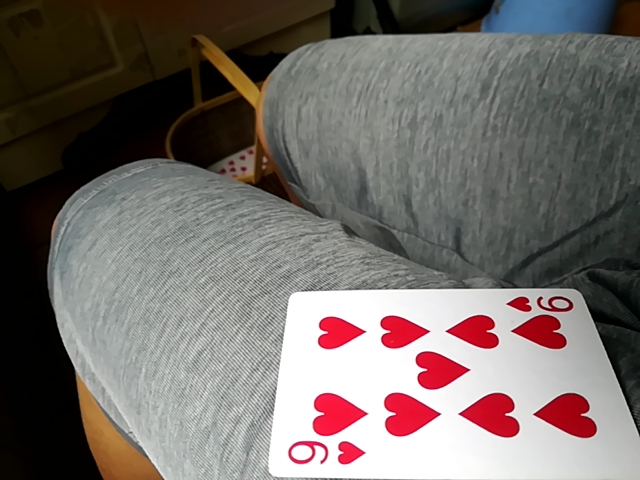hx 9: (272, 283, 619, 477)
